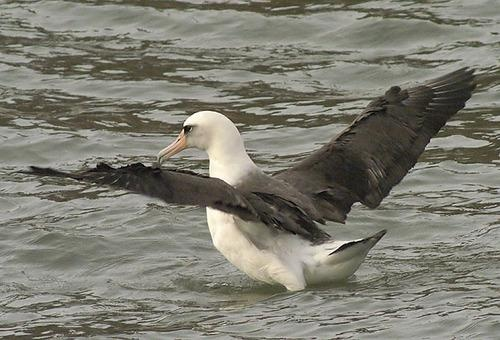bird: (17, 65, 481, 289)
